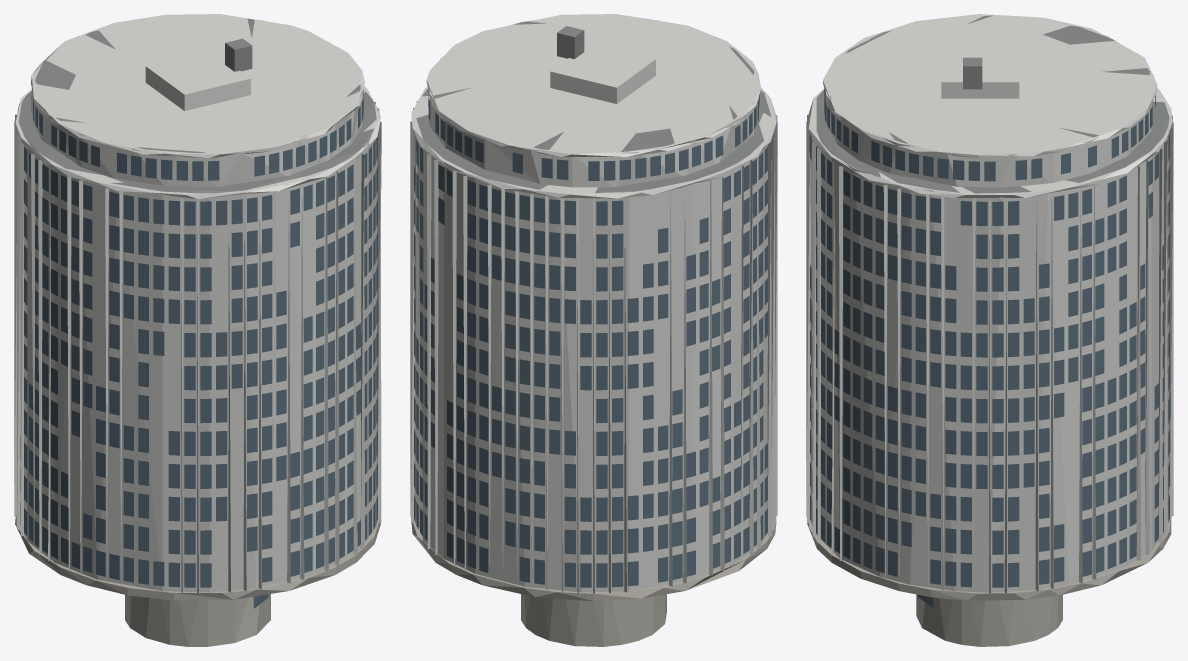
File: schutterstoren.lod1.glb
3 renders of one model, left to right at view 1: azimuth 30°, elevation 25°; view 2: azimuth 150°, elevation 25°; view 3: azimuth 270°, elevation 25°, orthographic.
Visible parts, largest first — view 1: schutterstoren; view 2: schutterstoren; view 3: schutterstoren.
Boxes of the visible parts, x1,y1,x2,y2 form: schutterstoren: (14,14,381,646); schutterstoren: (410,14,777,646); schutterstoren: (806,14,1173,646).
Size of the model in its own units: 28.74 by 49.2 by 28.74.
